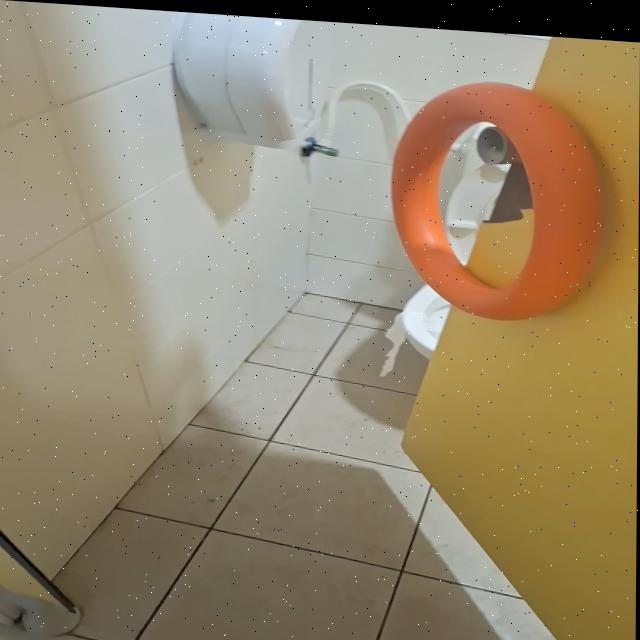note: (388, 68, 604, 319)
